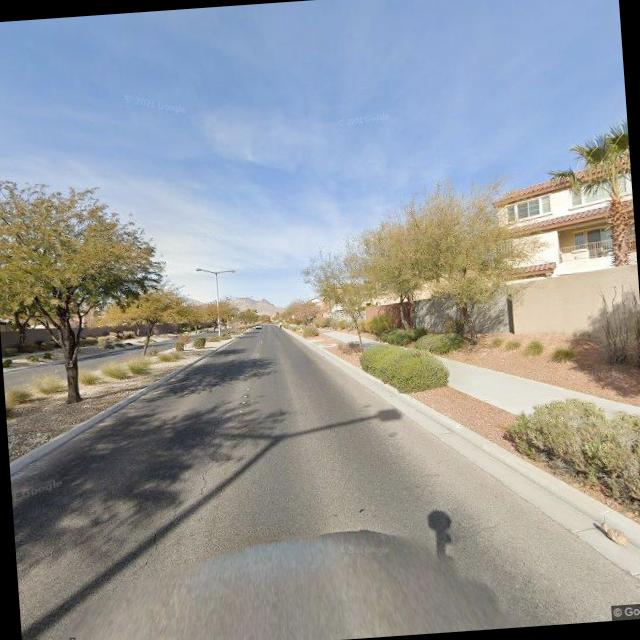crack: (127, 439, 228, 572)
